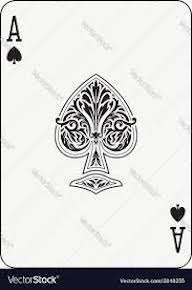AceOfSpades: (1, 1, 192, 269)
